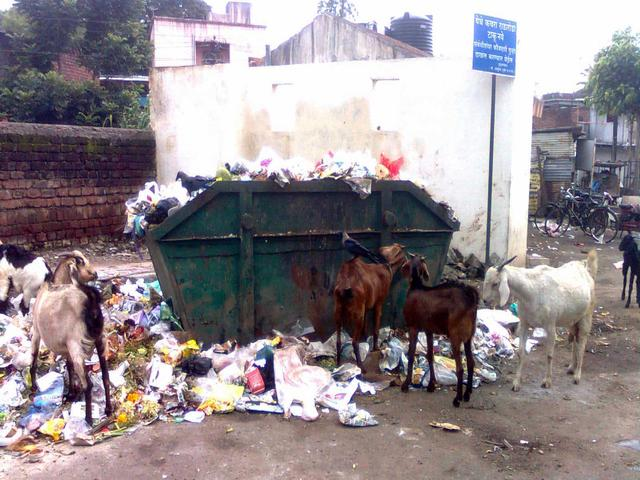garbage: (122, 328, 326, 419)
